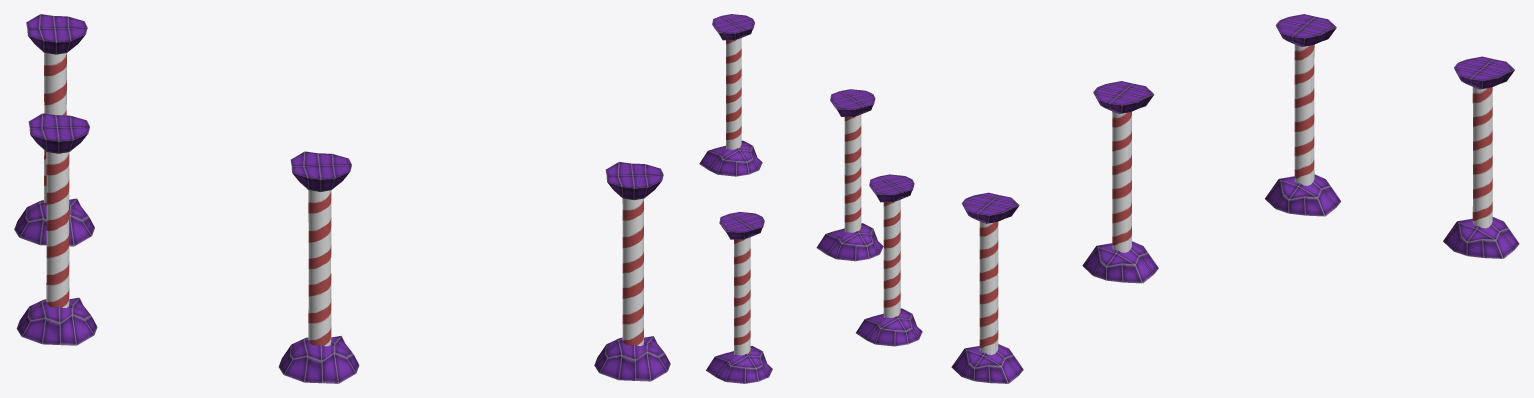
The model's file is m_environment2_candyPillar_je_4.fbx.
3 renders of one model, left to right at view 1: azimuth 30°, elevation 25°; view 2: azimuth 150°, elevation 25°; view 3: azimuth 270°, elevation 25°, orthographic. The views are drawn at different scales.
Parts seen in each view (by area): view 1: polySurface630; view 2: polySurface630; view 3: polySurface630.
Boxes of the visible parts, bbox=[...] form: polySurface630: bbox=[14, 14, 670, 383]; polySurface630: bbox=[699, 14, 922, 383]; polySurface630: bbox=[951, 14, 1519, 383].
Bounding box in the file's own units: 48.4 × 19.94 × 58.63.
